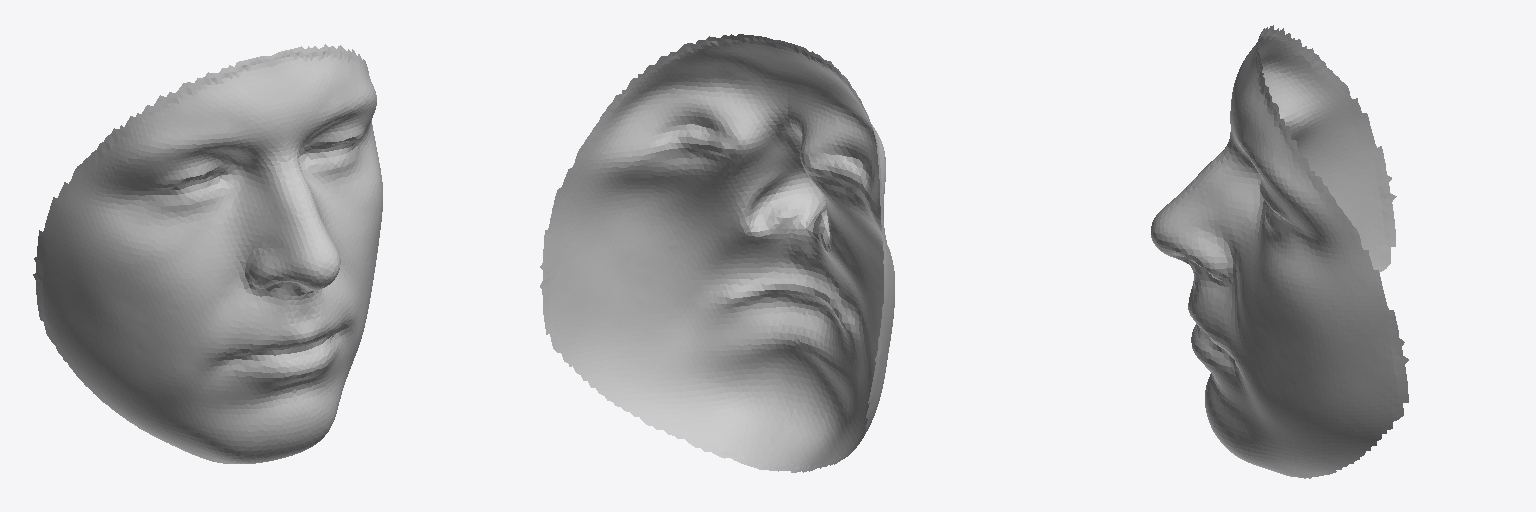
The model's file is SIMPOP_20.obj.
3 views of the same model, side by side, from view 1: azimuth 30°, elevation 25°; view 2: azimuth 150°, elevation 25°; view 3: azimuth 270°, elevation 25° (orthographic).
Visible parts, largest first — view 1: SIMPOP_20; view 2: SIMPOP_20; view 3: SIMPOP_20.
Boxes of the visible parts, x1,y1,x2,y2 form: SIMPOP_20: [33, 44, 382, 463]; SIMPOP_20: [540, 34, 894, 472]; SIMPOP_20: [1151, 25, 1408, 478].
Size of the model in its own units: 154 by 185 by 104.